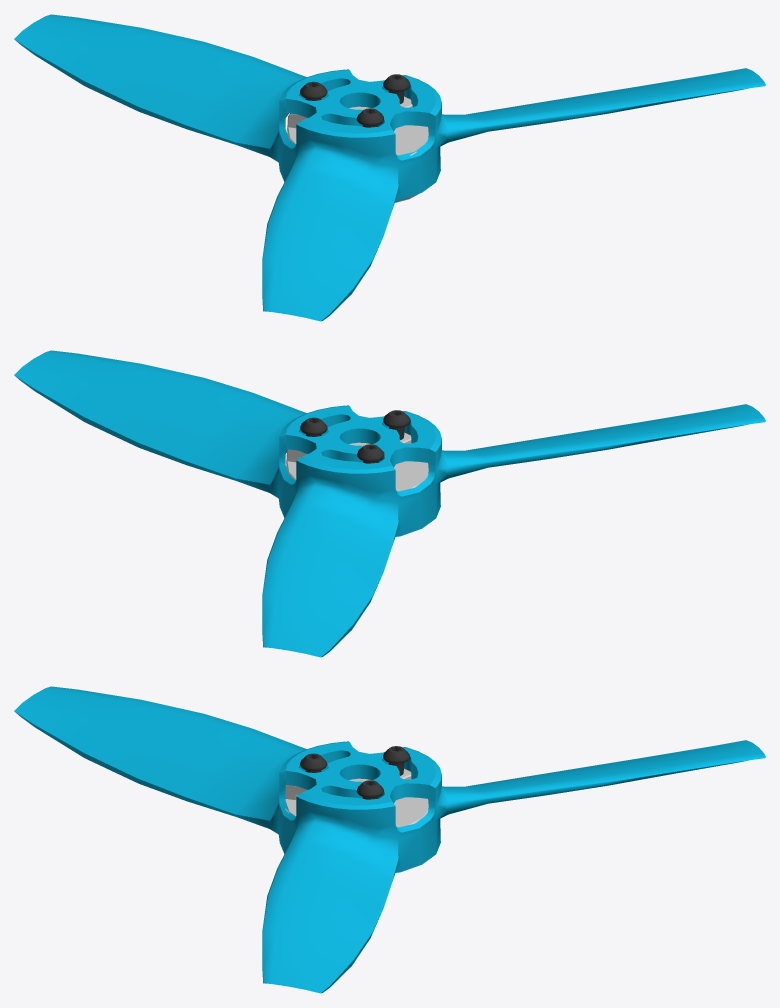
File: propeller_fl.dae
3 views of the same model, one above another, from view 1: azimuth 30°, elevation 25°; view 2: azimuth 150°, elevation 25°; view 3: azimuth 270°, elevation 25° (orthographic).
Visible parts, largest first — view 1: helice_Avant_droite_001; view 2: helice_Avant_droite_001; view 3: helice_Avant_droite_001.
Boxes of the visible parts, x1,y1,x2,y2 form: helice_Avant_droite_001: [14, 14, 765, 321]; helice_Avant_droite_001: [14, 350, 765, 657]; helice_Avant_droite_001: [14, 686, 765, 993].
Bounding box in the file's own units: 0.1086 × 0.1146 × 0.0143.
